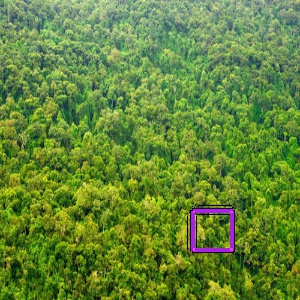square: (188, 205, 236, 254)
